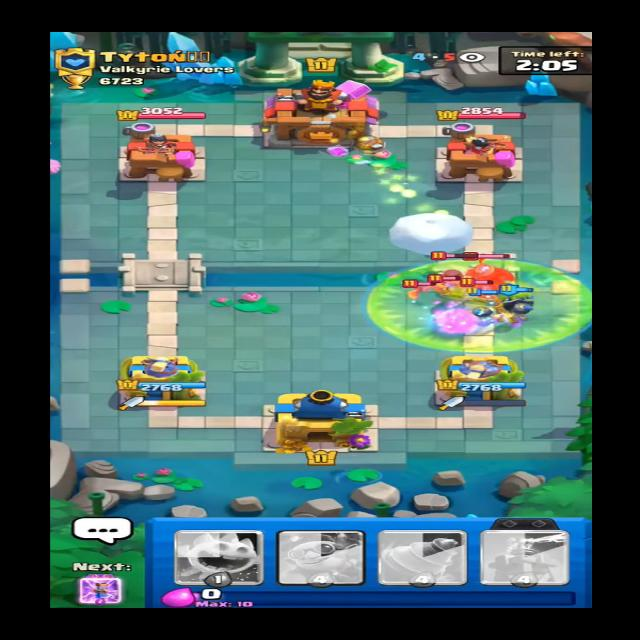Bat: (426, 275, 461, 294), (404, 276, 438, 295)
Giantsnowball: (390, 212, 469, 254)
